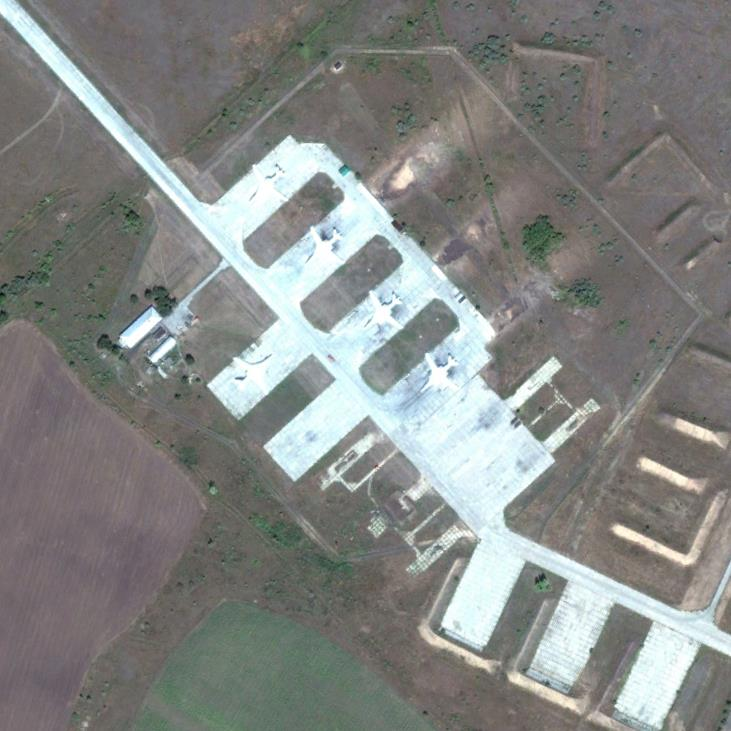A6: (419, 349, 459, 394), (232, 353, 274, 395), (304, 224, 345, 266), (248, 162, 289, 203), (365, 289, 404, 332)
